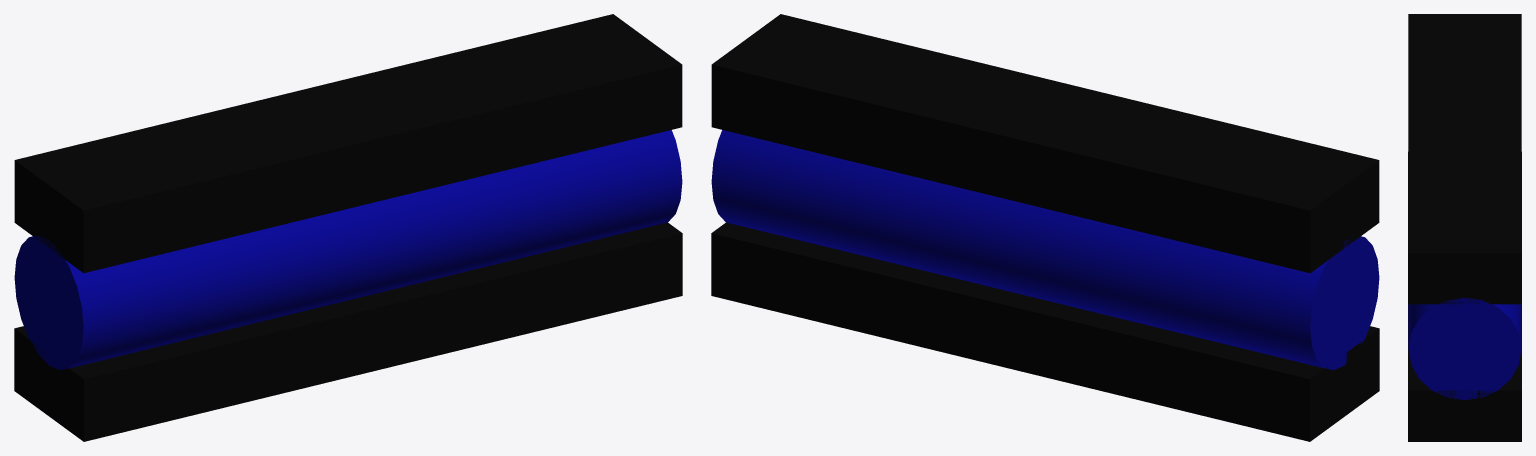
File: Beam.fbx
The picture shows the model from 3 angles, left to right: view 1: azimuth 30°, elevation 25°; view 2: azimuth 150°, elevation 25°; view 3: azimuth 270°, elevation 25°; orthographic projection. The views are drawn at different scales.
Parts seen in each view (by area): view 1: pCube1, pCylinder1, pCube2; view 2: pCube1, pCylinder1, pCube2; view 3: pCube1, pCylinder1, pCube2.
Boxes of the visible parts, left/top/right/bottom form: pCube1: left=14, top=14, right=682, bottom=273; pCylinder1: left=14, top=130, right=682, bottom=369; pCube2: left=14, top=222, right=682, bottom=441; pCube1: left=711, top=14, right=1379, bottom=273; pCylinder1: left=711, top=130, right=1379, bottom=369; pCube2: left=711, top=222, right=1379, bottom=441; pCube1: left=1408, top=14, right=1521, bottom=304; pCylinder1: left=1408, top=298, right=1521, bottom=400; pCube2: left=1408, top=152, right=1521, bottom=441.
Size of the model in its own units: 5 by 1.01 by 1.84.
